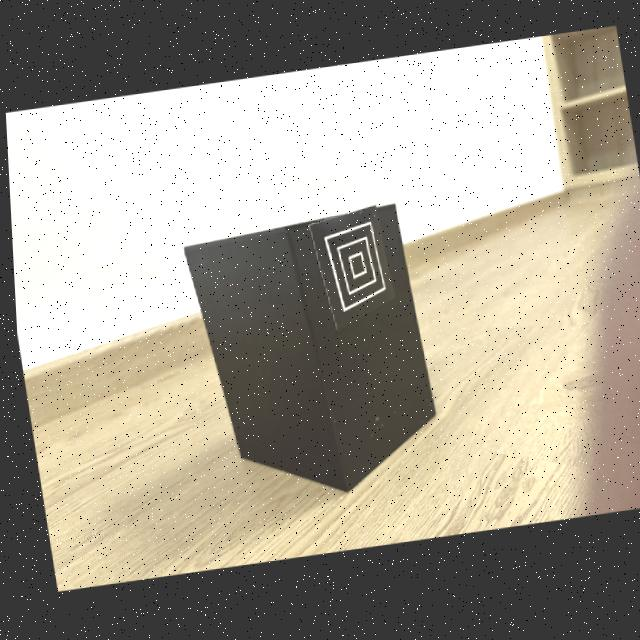BULLSEYE: (307, 207, 393, 335)
